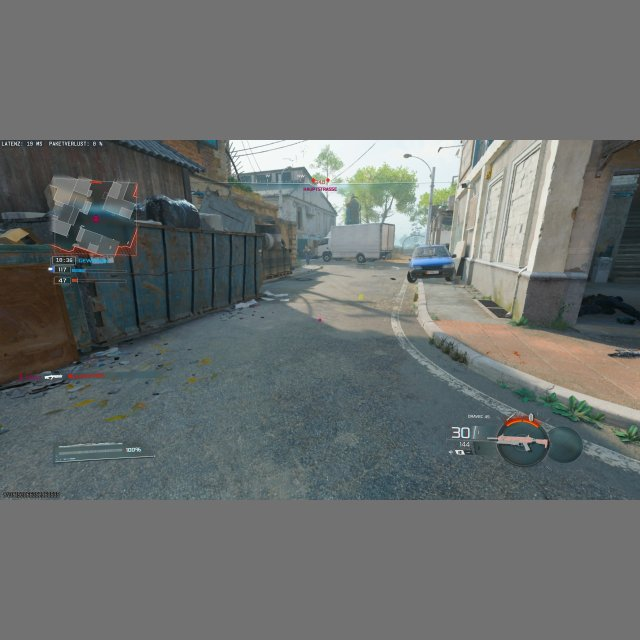player: (303, 245, 311, 266)
